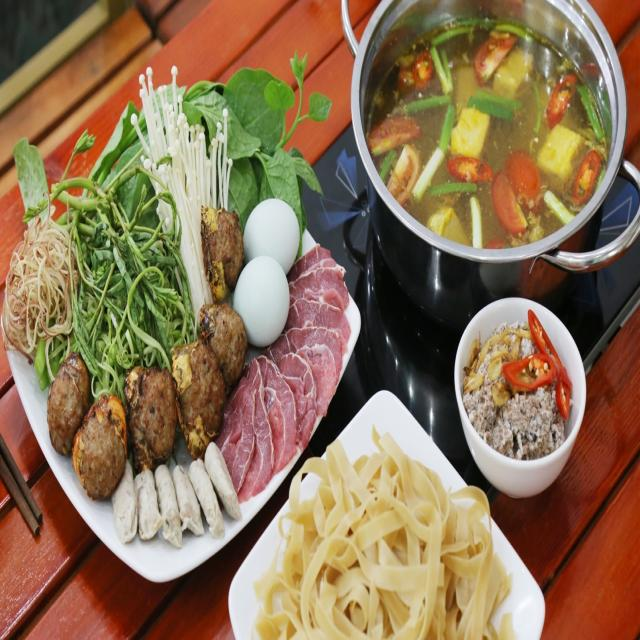ca song: (291, 254, 342, 410), (222, 389, 289, 474)
cha: (124, 453, 232, 537)
mi: (255, 488, 516, 640)
nam: (41, 358, 210, 456), (203, 193, 240, 375)
nuoc lau: (346, 0, 633, 278)
rau lau: (2, 117, 198, 350)
trung vit lon: (244, 202, 288, 342)
